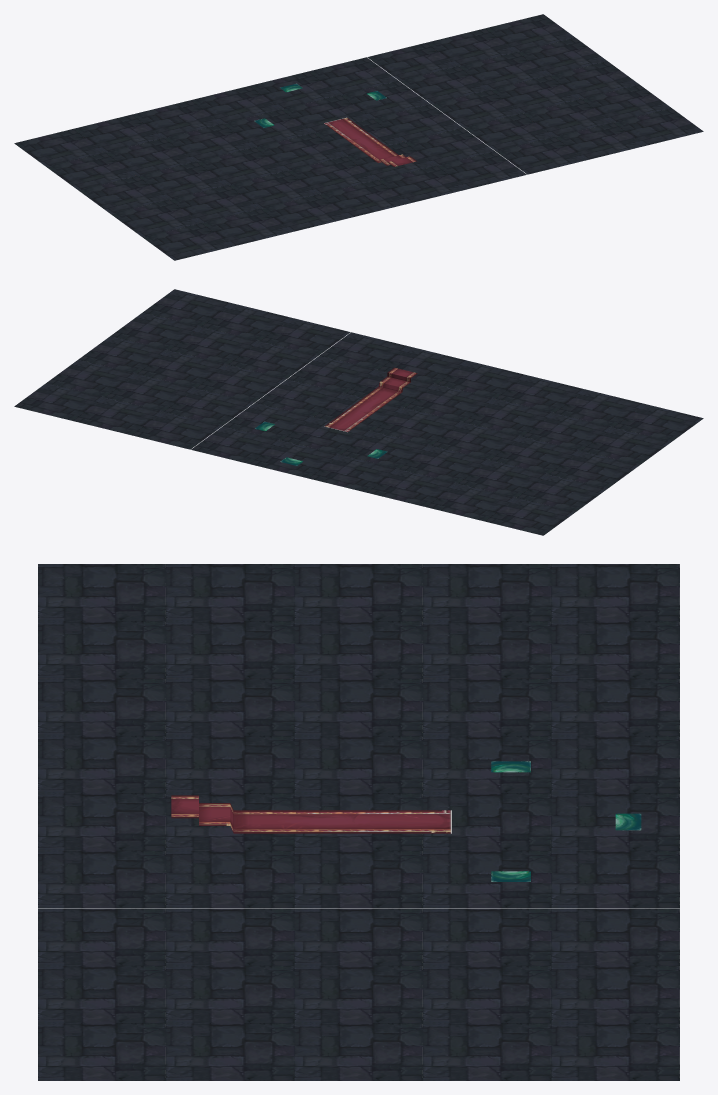
The picture shows the model from 3 angles, top to bottom: view 1: azimuth 30°, elevation 25°; view 2: azimuth 150°, elevation 25°; view 3: azimuth 270°, elevation 25°; orthographic projection. The views are drawn at different scales.
Parts seen in each view (by area): view 1: 0_scene2.001, 0_scene2.002, 0_scene2; view 2: 0_scene2.001, 0_scene2, 0_scene2.002; view 3: 0_scene2, 0_scene2.001, 0_scene2.002.
Part boxes in pixels (<box>): 0_scene2.001: <box>367,14,703,174</box>; 0_scene2.002: <box>14,100,350,260</box>; 0_scene2: <box>191,57,526,217</box>; 0_scene2.001: <box>14,289,350,449</box>; 0_scene2: <box>191,332,526,492</box>; 0_scene2.002: <box>367,375,703,535</box>; 0_scene2: <box>38,736,679,908</box>; 0_scene2.001: <box>38,908,679,1080</box>; 0_scene2.002: <box>38,564,679,736</box>.
Bounding box in the file's own units: 9.07 × 0.1265 × 4.76.
Materials: 2 (2 with a texture image).
